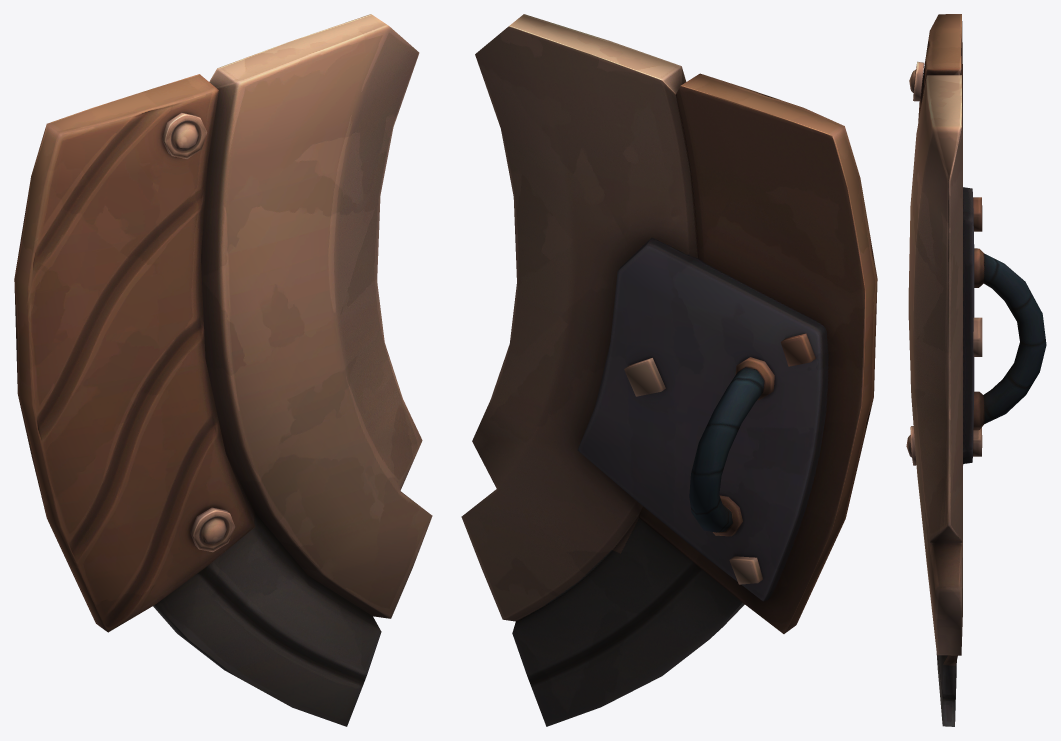
Rendered from Weapon_MilitiaShield_TRUE_FBX.fbx.
3 views of the same model, side by side, from view 1: azimuth 30°, elevation 25°; view 2: azimuth 150°, elevation 25°; view 3: azimuth 270°, elevation 25° (orthographic). The views are drawn at different scales.
Visible parts, largest first — view 1: Militia_Shield; view 2: Militia_Shield; view 3: Militia_Shield.
Part boxes in pixels (x1,y1,x2,y2): Militia_Shield: (14, 14, 432, 726); Militia_Shield: (461, 14, 877, 726); Militia_Shield: (906, 14, 1046, 726).
Size of the model in its own units: 0.6545 by 0.2225 by 1.08.
